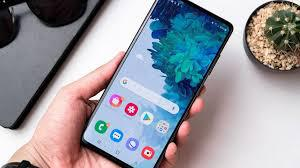Hand: (28, 56, 228, 168)
Smartphone: (93, 0, 235, 165)
